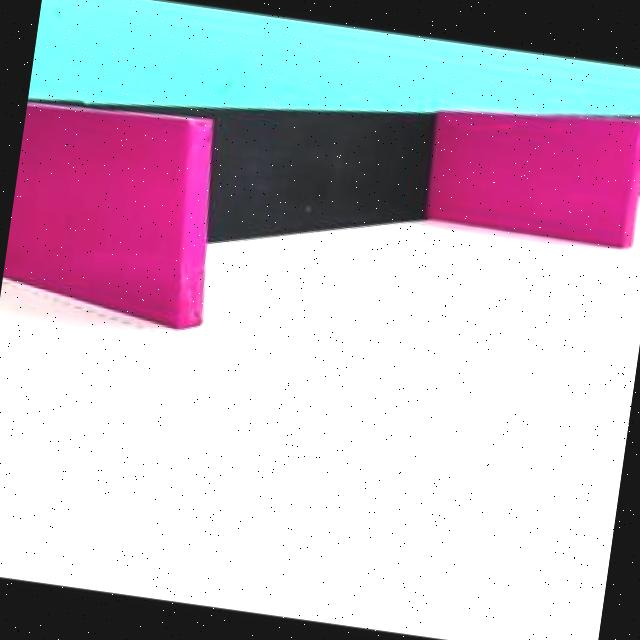xparking: (0, 101, 200, 342), (431, 114, 640, 258)
